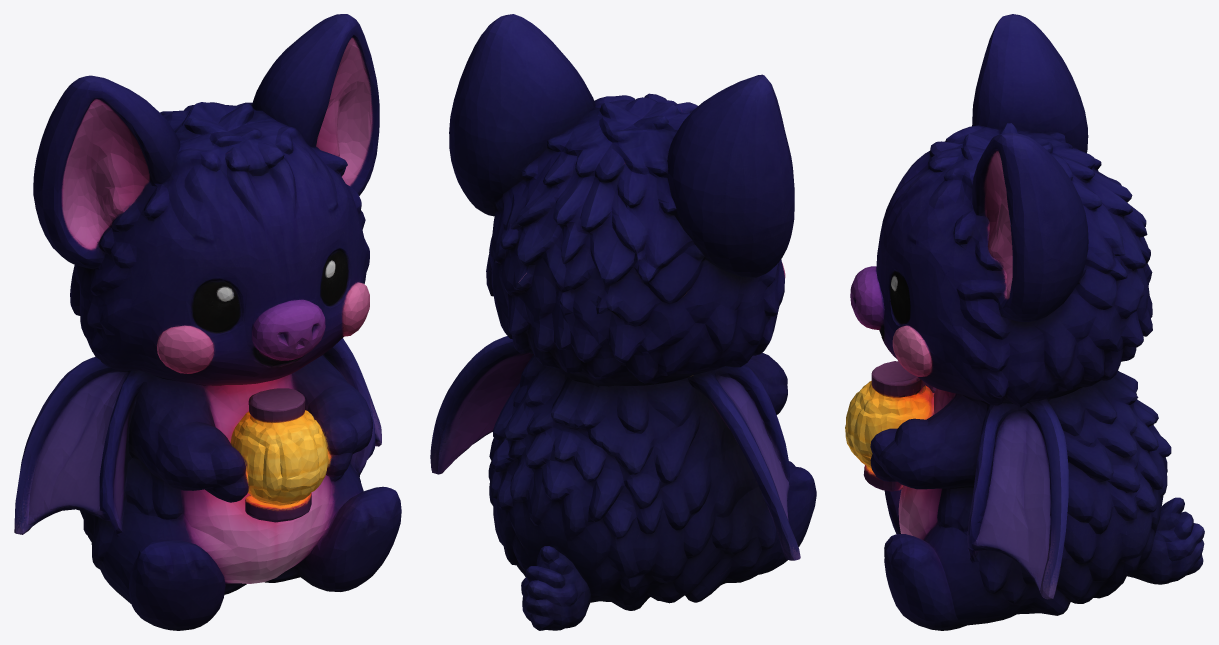
The model's file is glowbat_raw.glb.
3 views of the same model, side by side, from view 1: azimuth 30°, elevation 25°; view 2: azimuth 150°, elevation 25°; view 3: azimuth 270°, elevation 25° (orthographic). The views are drawn at different scales.
Parts seen in each view (by area): view 1: world; view 2: world; view 3: world.
Part boxes in pixels (x1,y1,x2,y2): world: (14, 14, 401, 630); world: (430, 14, 816, 630); world: (845, 14, 1204, 630).
Size of the model in its own units: 0.7279 by 1 by 0.6388.
1 material, 1 textured.
